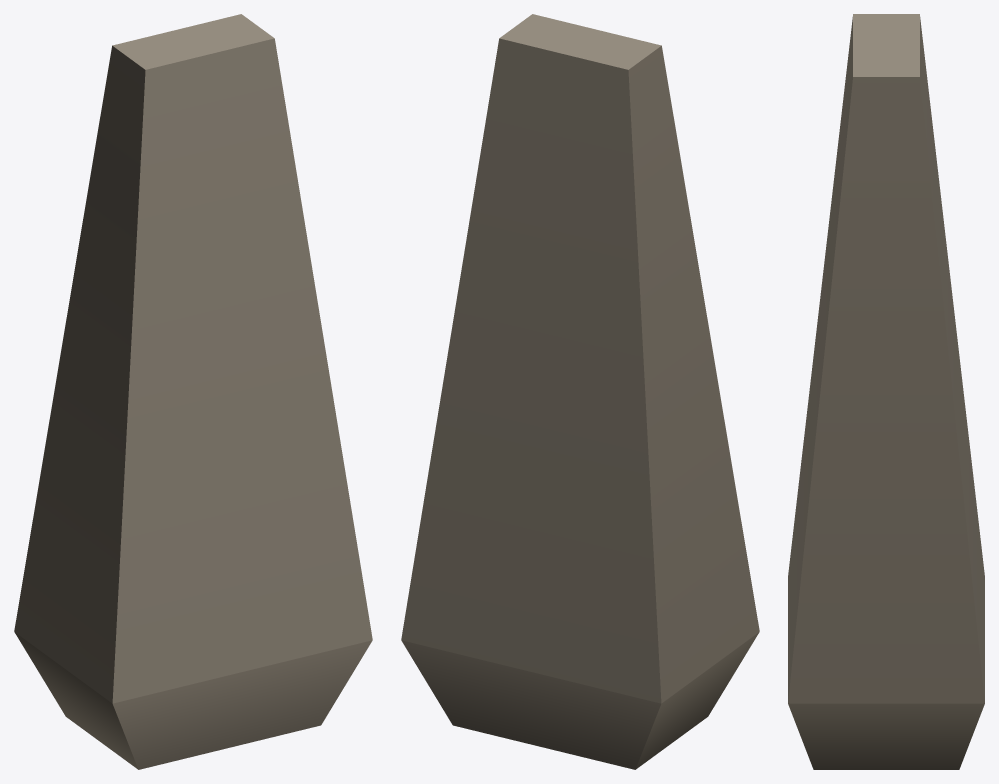
The model's file is ManmadeMore_SF_Env_StandingStone_06.fbx.
3 views of the same model, side by side, from view 1: azimuth 30°, elevation 25°; view 2: azimuth 150°, elevation 25°; view 3: azimuth 270°, elevation 25° (orthographic).
Visible parts, largest first — view 1: SF_Env_StandingStone_06; view 2: SF_Env_StandingStone_06; view 3: SF_Env_StandingStone_06.
Part boxes in pixels (box(x1,y1,x2,y2)): SF_Env_StandingStone_06: box(14, 14, 372, 769); SF_Env_StandingStone_06: box(401, 14, 759, 769); SF_Env_StandingStone_06: box(788, 14, 984, 769).
Bounding box in the file's own units: 75.95 × 189 × 49.73.
